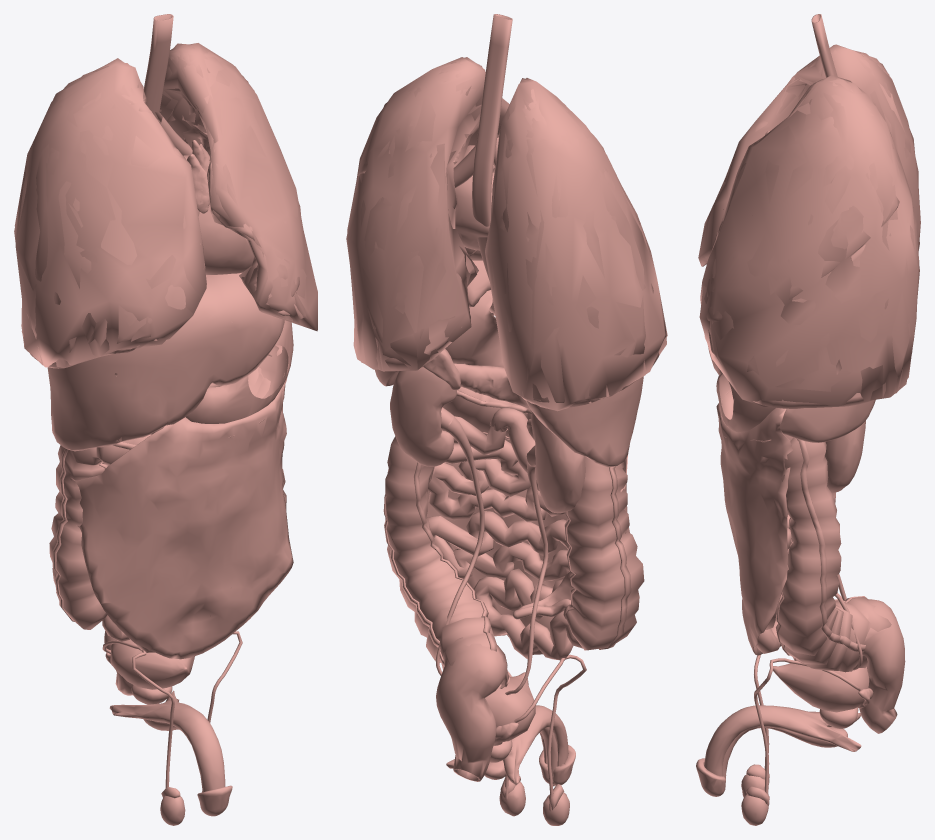
File: organs.glb
3 views of the same model, side by side, from view 1: azimuth 30°, elevation 25°; view 2: azimuth 150°, elevation 25°; view 3: azimuth 270°, elevation 25° (orthographic). The views are drawn at different scales.
Parts seen in each view (by area): view 1: Pleura.001, Greater omentum.001, Liver.001, Ascending colon.001, Stomach.001, Corpus cavernosum of penis.001, Urinary bladder.001, Right ventricle.001, Oesophagus.001, Superior lobe of left lung.001, Mesocolic taenia.001, Ductus deferens.r.001 (+6 smaller); view 2: Pleura.001, Jejunum.001, Ascending colon.001, Descending colon.001, Sigmoid colon.001, Liver.001, Kidney.l.001, Oesophagus.001, Kidney.r.001, Stomach.001, Greater omentum.001, Corpus cavernosum of penis.001 (+16 smaller); view 3: Pleura.001, Descending colon.001, Greater omentum.001, Sigmoid colon.001, Corpus cavernosum of penis.001, Urinary bladder.001, Spleen.001, Superior lobe of left lung.001, Kidney.l.001, Stomach.001, Mesocolic taenia.001, Inferior lobe of left lung.001 (+7 smaller).
Part boxes in pixels (x1,y1,x2,y2): Pleura.001: [14, 43, 317, 367]; Greater omentum.001: [70, 359, 293, 659]; Liver.001: [47, 273, 284, 451]; Ascending colon.001: [49, 445, 107, 629]; Stomach.001: [186, 320, 293, 423]; Corpus cavernosum of penis.001: [109, 690, 225, 792]; Urinary bladder.001: [110, 639, 194, 689]; Right ventricle.001: [198, 205, 254, 274]; Oesophagus.001: [144, 14, 173, 118]; Superior lobe of left lung.001: [159, 46, 299, 311]; Mesocolic taenia.001: [52, 442, 136, 621]; Ductus deferens.r.001: [102, 640, 174, 787]; Pleura.001: [346, 57, 667, 411]; Jejunum.001: [427, 416, 582, 660]; Ascending colon.001: [565, 456, 644, 650]; Descending colon.001: [385, 436, 508, 688]; Sigmoid colon.001: [436, 637, 507, 781]; Liver.001: [467, 260, 643, 467]; Kidney.l.001: [390, 367, 456, 466]; Oesophagus.001: [472, 14, 512, 316]; Kidney.r.001: [531, 412, 585, 513]; Stomach.001: [445, 290, 503, 367]; Greater omentum.001: [426, 438, 629, 654]; Corpus cavernosum of penis.001: [446, 705, 568, 784]; Pleura.001: [698, 44, 920, 406]; Descending colon.001: [778, 437, 891, 672]; Greater omentum.001: [716, 389, 792, 655]; Sigmoid colon.001: [859, 599, 905, 733]; Corpus cavernosum of penis.001: [704, 705, 861, 776]; Urinary bladder.001: [773, 663, 869, 712]; Spleen.001: [779, 399, 875, 442]; Superior lobe of left lung.001: [702, 79, 900, 321]; Kidney.l.001: [824, 420, 865, 492]; Stomach.001: [716, 372, 775, 432]; Mesocolic taenia.001: [796, 438, 865, 652]; Inferior lobe of left lung.001: [708, 206, 913, 408].
Size of the model in its own units: 0.264 by 0.7491 by 0.1916.
